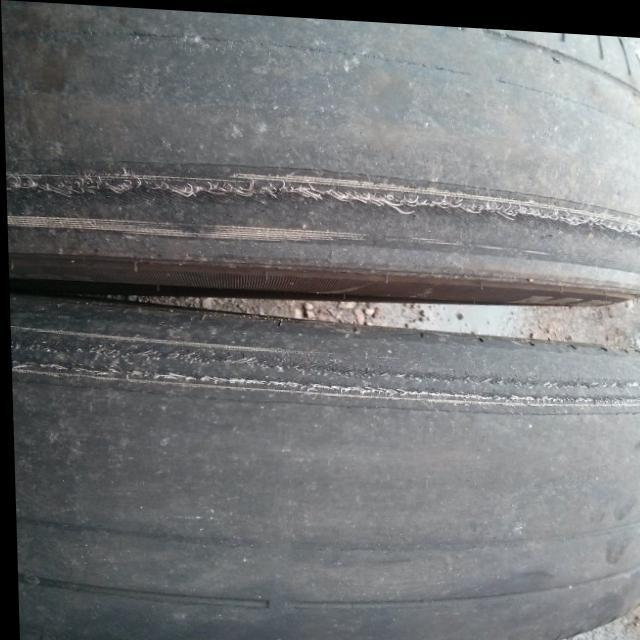Flat spots: (13, 392, 639, 586), (3, 40, 620, 163)
